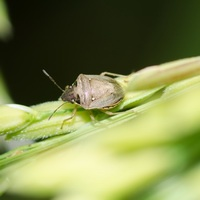insect: (42, 69, 123, 109)
